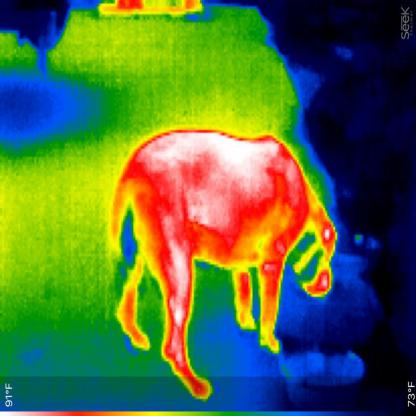dog: (103, 125, 339, 400)
